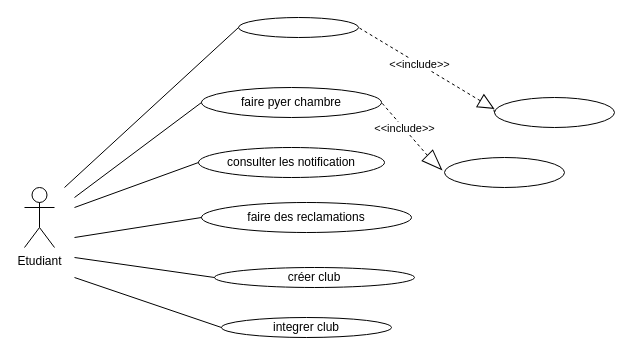
The diagram is 632 pixels wide and 355 high, and some of its shapes have lost their labels. The shapes that lost their labels are listed below. From the top down, each one's box as (x1, y1, x2, y2) in pixels, then its label:
(238, 16, 358, 38): s'inscrire
(494, 96, 614, 128): s'authentifier
(444, 156, 564, 188): reserver chambre
